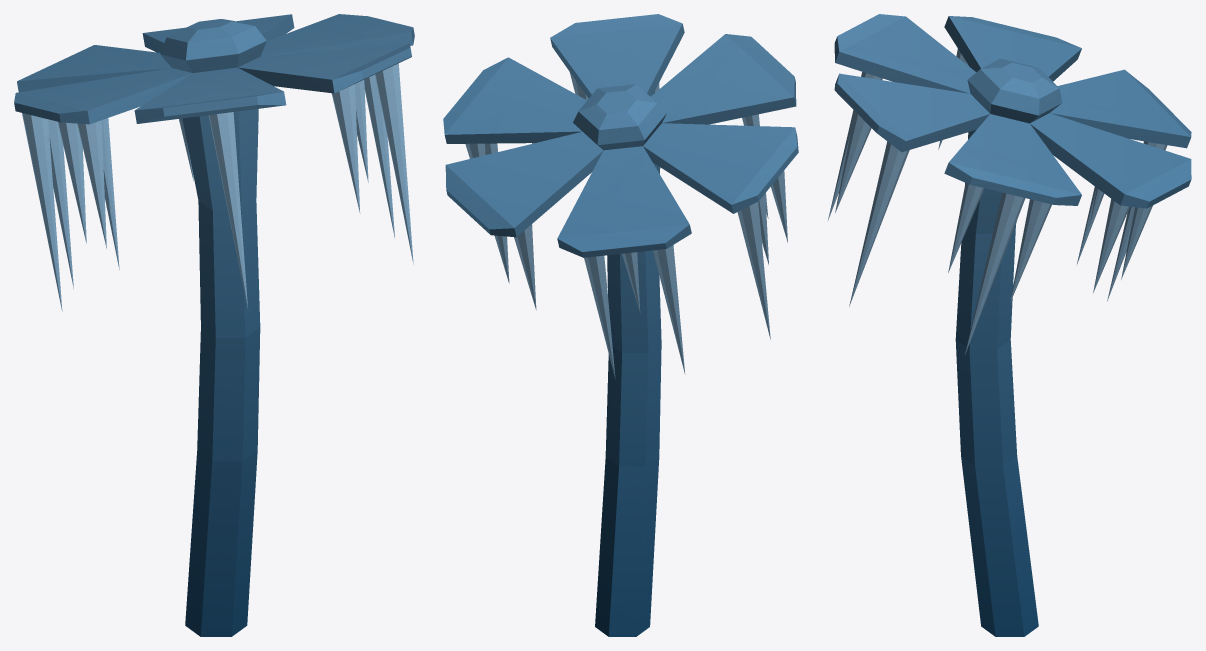
The model's file is SM_FrozenFlower1.fbx.
The picture shows the model from 3 angles, left to right: view 1: azimuth 30°, elevation 25°; view 2: azimuth 150°, elevation 25°; view 3: azimuth 270°, elevation 25°; orthographic projection. The views are drawn at different scales.
Parts seen in each view (by area): view 1: SM_FrozenFlower1; view 2: SM_FrozenFlower1; view 3: SM_FrozenFlower1.
Boxes of the visible parts, x1,y1,x2,y2 form: SM_FrozenFlower1: (14,14,414,636); SM_FrozenFlower1: (443,14,798,636); SM_FrozenFlower1: (827,14,1191,636).
Size of the model in its own units: 41.25 by 67.91 by 39.54.
